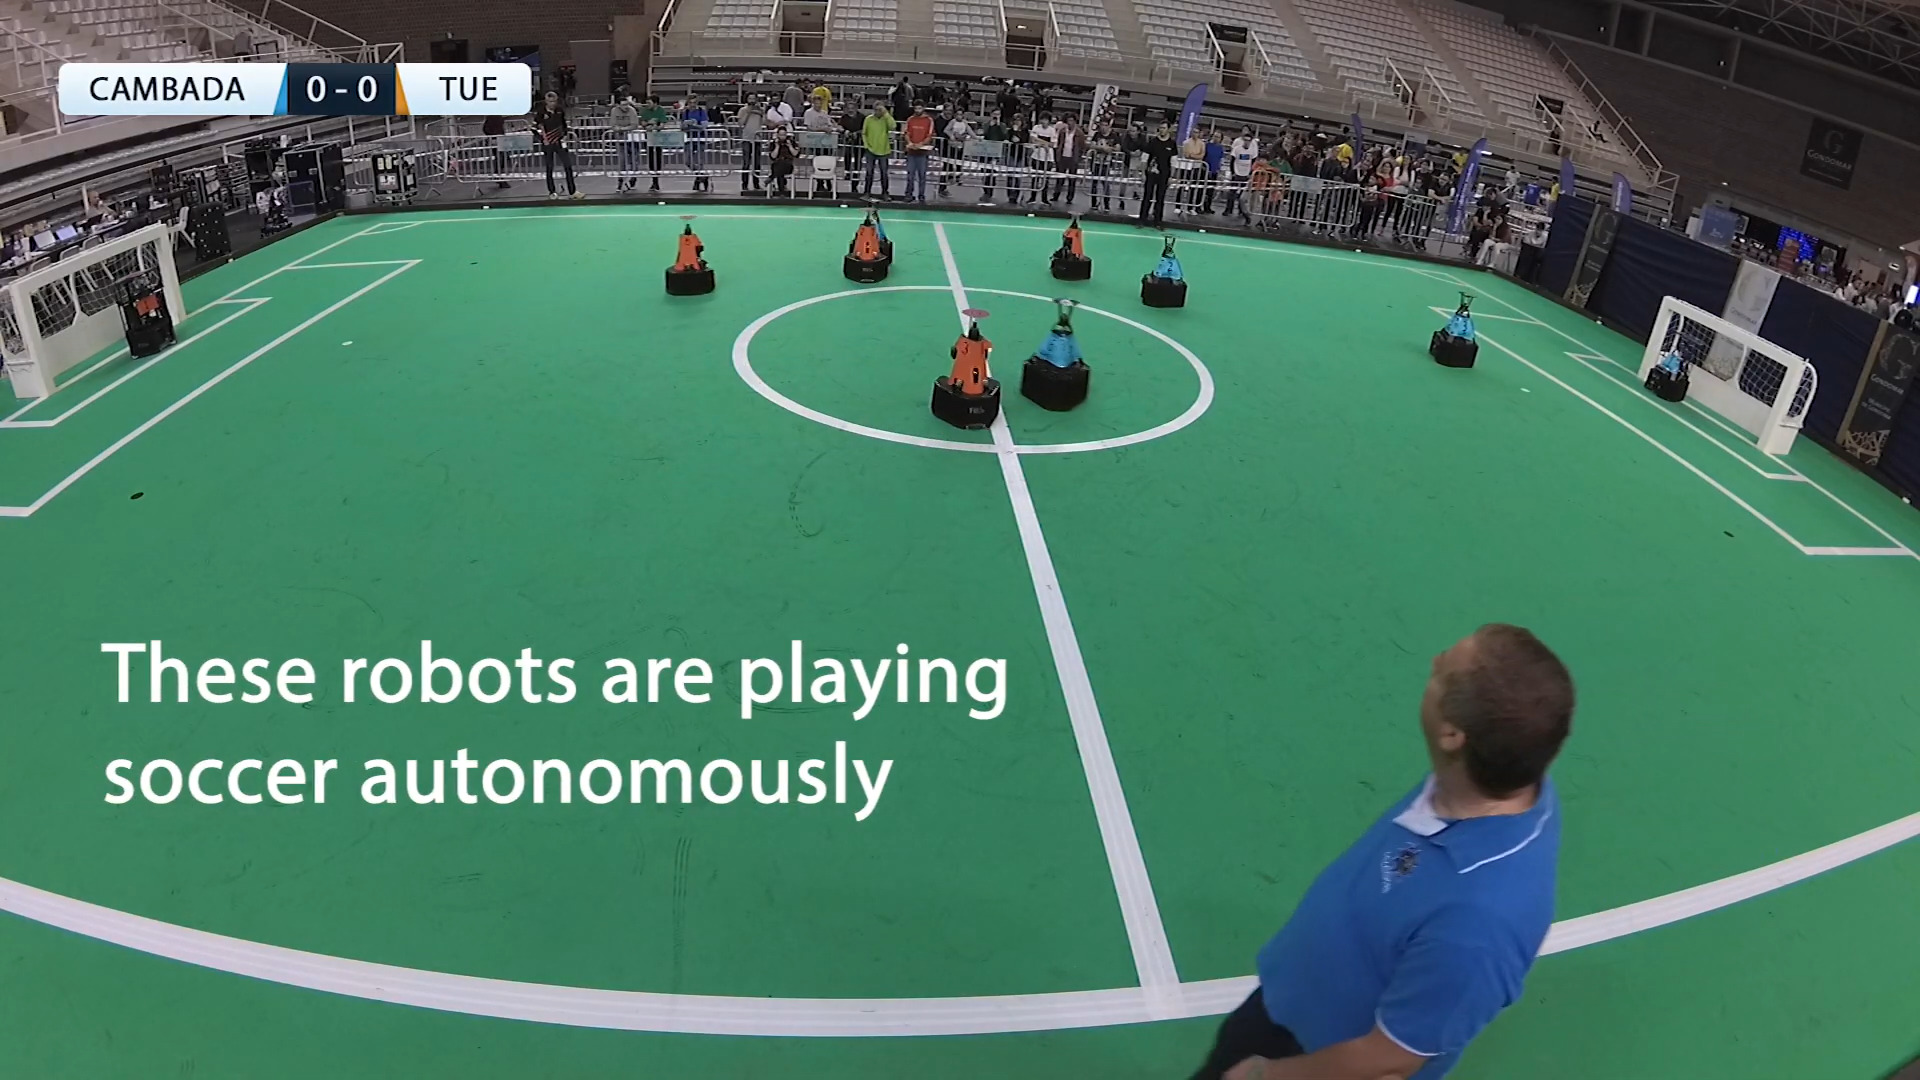BLUE2: (1134, 233, 1193, 316)
BLUE3: (1425, 290, 1480, 372)
BLUE5: (1017, 295, 1092, 417)
B_Goalie: (1639, 335, 1698, 404)
RED2: (841, 212, 891, 286)
RED3: (926, 303, 1014, 433)
RED4: (1047, 210, 1091, 281)
RED5: (669, 210, 717, 299)
R_Goalie: (108, 272, 179, 357)
Referee: (1191, 599, 1634, 1080)
